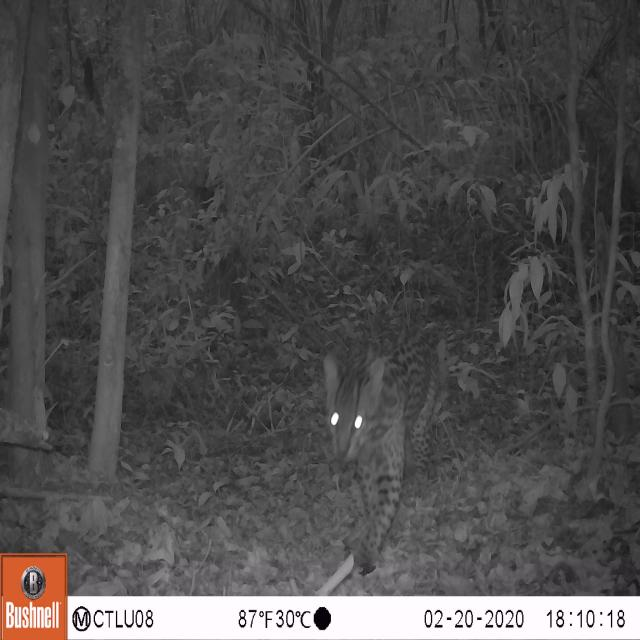Ocelote: (316, 337, 424, 576)
